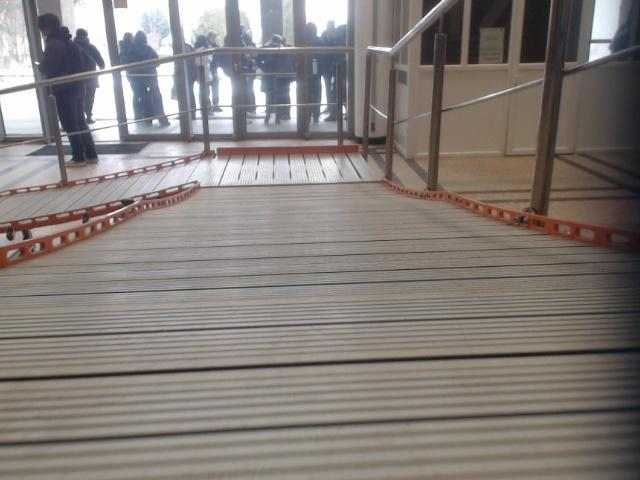rampDown: (0, 145, 639, 479)
ramps-railing: (362, 0, 639, 215), (0, 46, 354, 94), (47, 96, 66, 182), (334, 64, 345, 140), (200, 86, 208, 149)
